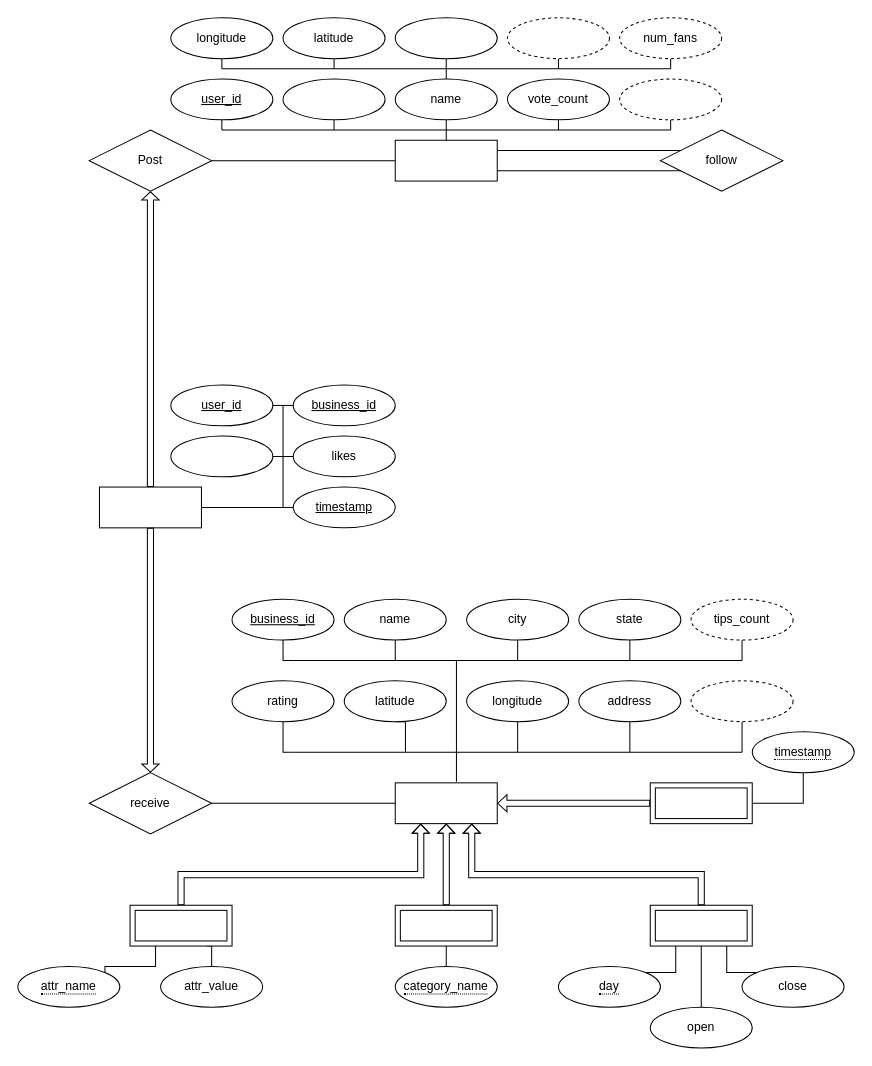
This 872x1066 diagram has some shape labels left out. Here are the shapes that lost their labels. From the top down, the centre of each, then its label:
(445,38): average_stars
(557,38): tip likes
(333,99): date_joined
(670,99): tip count
(445,160): User
(221,456): text
(149,507): Tips
(741,701): checkin_count
(445,803): Business
(700,803): checkin
(180,925): Attribute
(445,925): Category
(700,925): Hour
